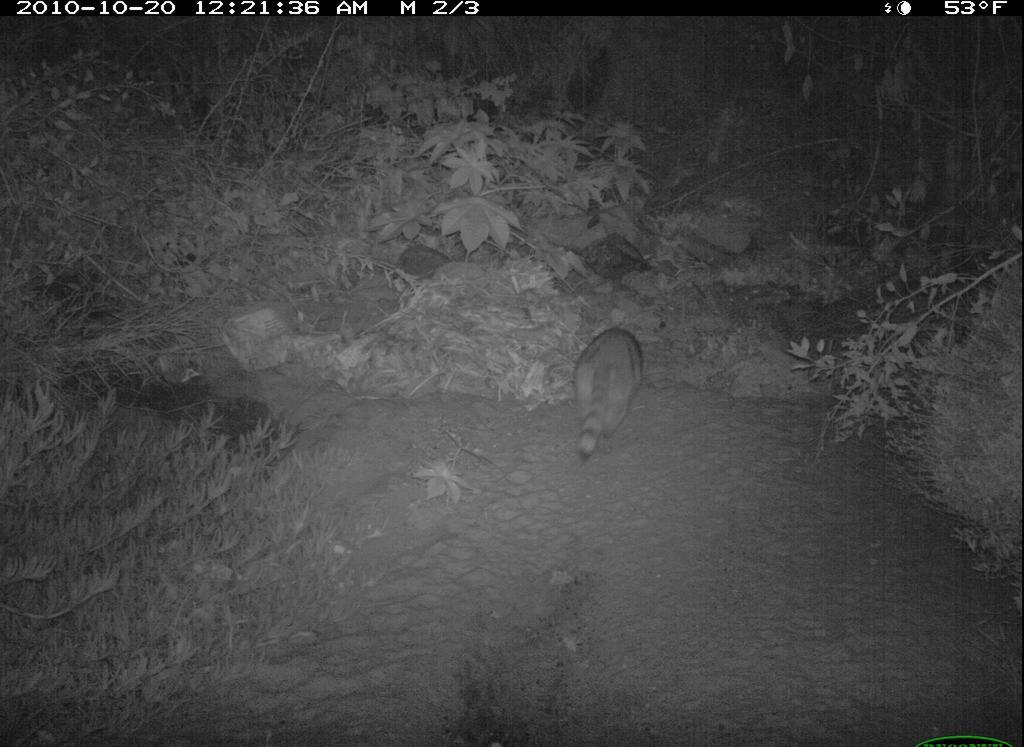raccoon: (570, 323, 649, 469)
